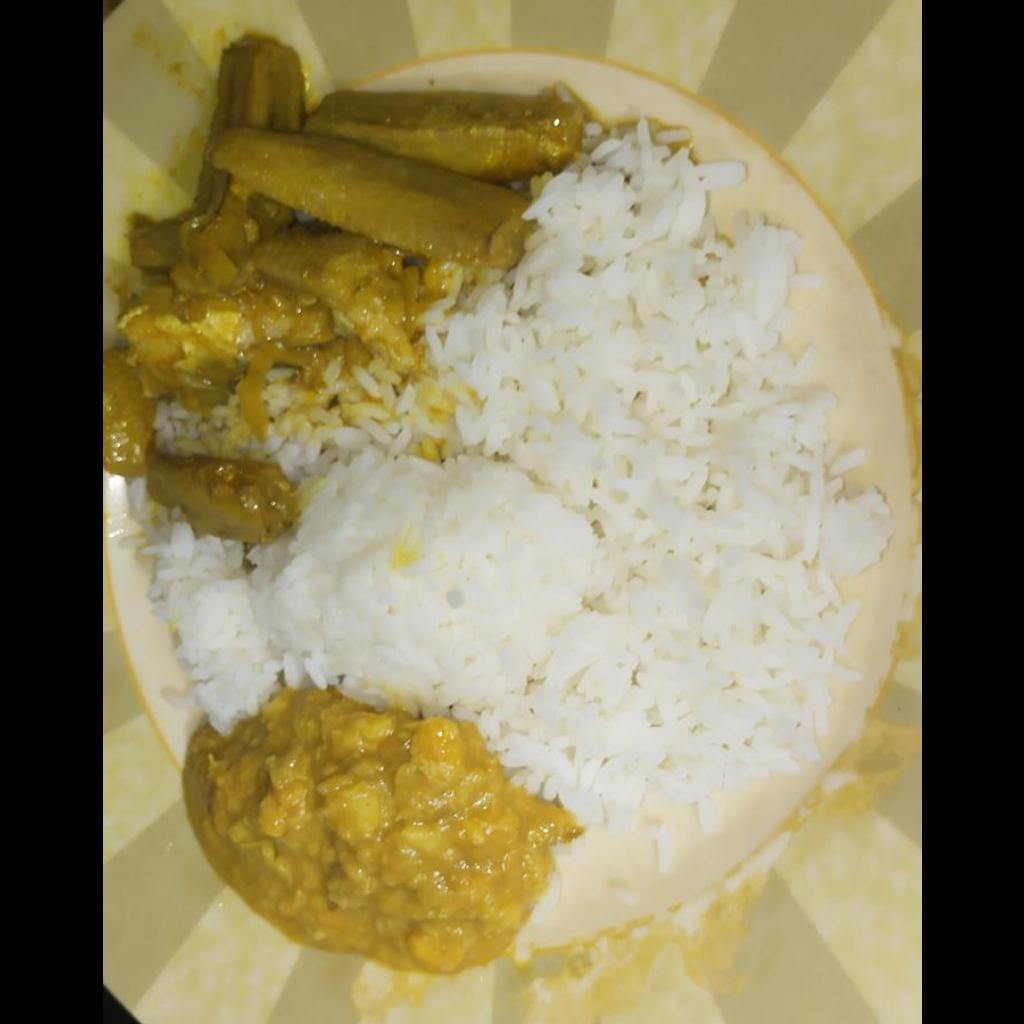daal: (185, 684, 583, 972)
fish: (102, 30, 573, 478)
rice: (154, 126, 890, 869)
